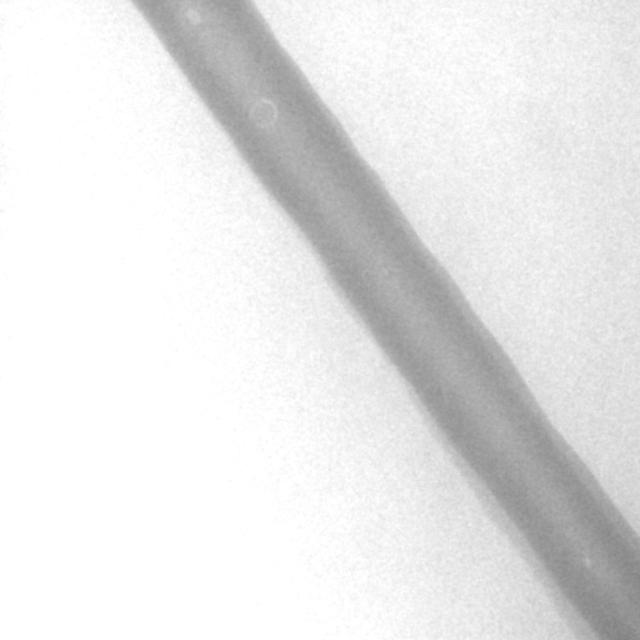air-hole: (187, 10, 200, 25), (583, 557, 591, 571)
